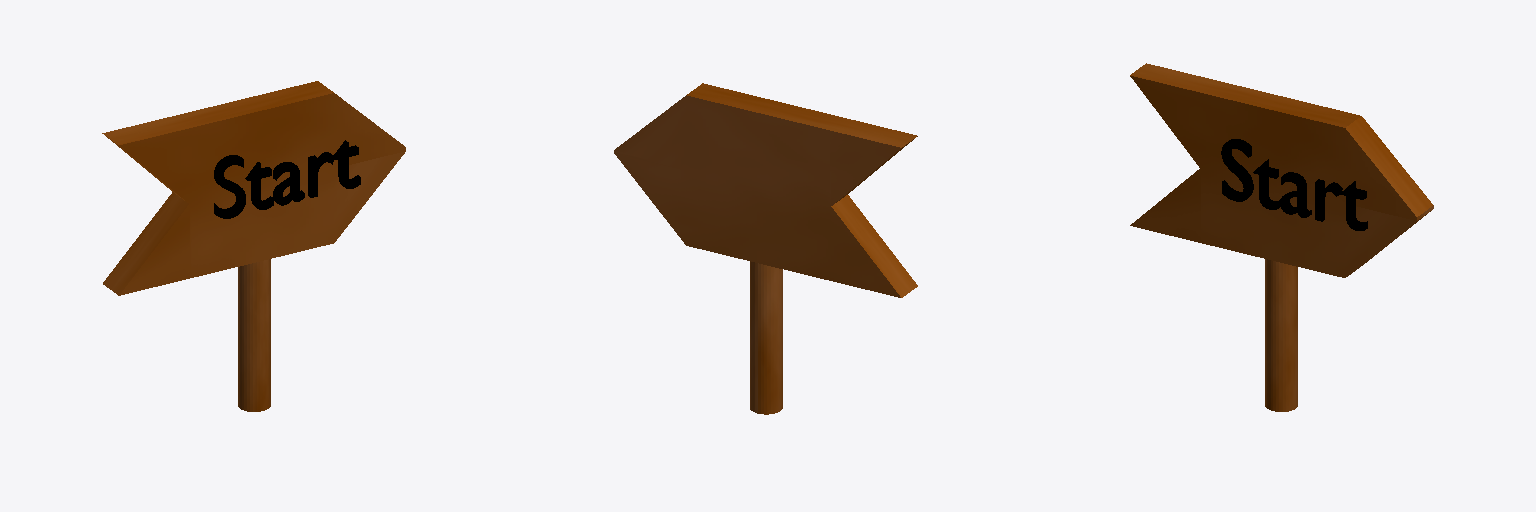
3 renders of one model, left to right at view 1: azimuth 30°, elevation 25°; view 2: azimuth 150°, elevation 25°; view 3: azimuth 330°, elevation 25°, orthographic.
Parts seen in each view (by area): view 1: テキスト; view 2: テキスト; view 3: テキスト.
Part boxes in pixels (bbox=[...]): テキスト: bbox=[102, 81, 405, 411]; テキスト: bbox=[614, 83, 917, 414]; テキスト: bbox=[1130, 63, 1433, 411].
Size of the model in its own units: 1 by 1 by 0.12.
Materials: 1 (1 with a texture image).